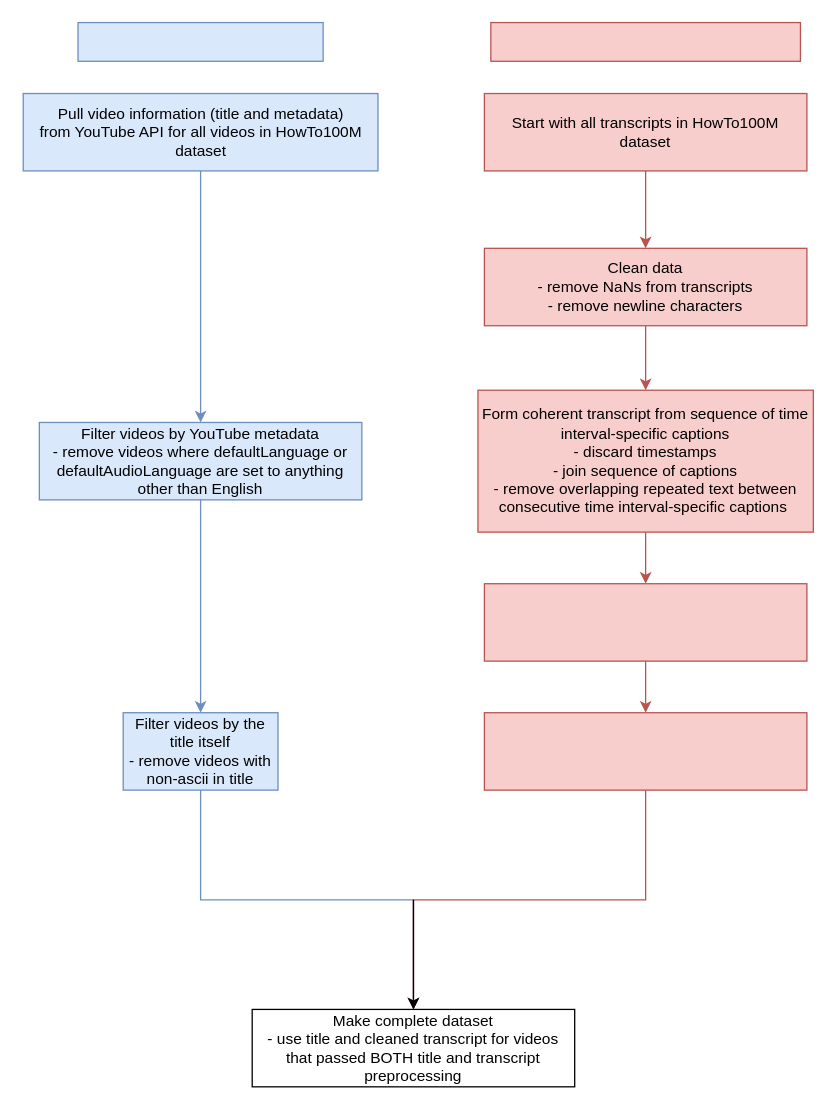
Image size: 836x1109. Some labels were removed from this diagram. The box of each missing label's shape, as (x1, y1, x2, y2) in pixels:
Remove any non-fully punctuated transcripts: (483, 711, 807, 790)
Remove junk transcripts with length greater than 42,500 characters: (483, 582, 807, 661)
Title preprocessing: (77, 21, 323, 61)
Transcript preprocessing: (490, 21, 800, 61)
